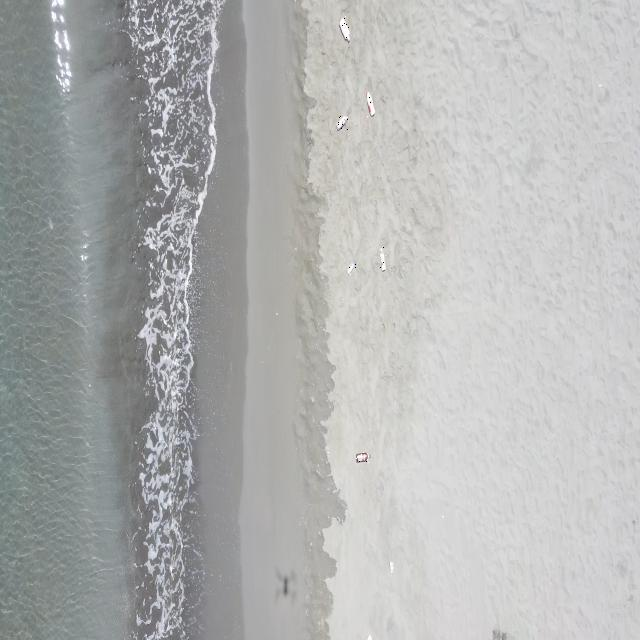Garbage: (340, 16, 350, 40), (336, 116, 347, 129), (367, 91, 372, 116), (355, 452, 367, 462), (380, 246, 384, 270), (347, 261, 355, 272)
